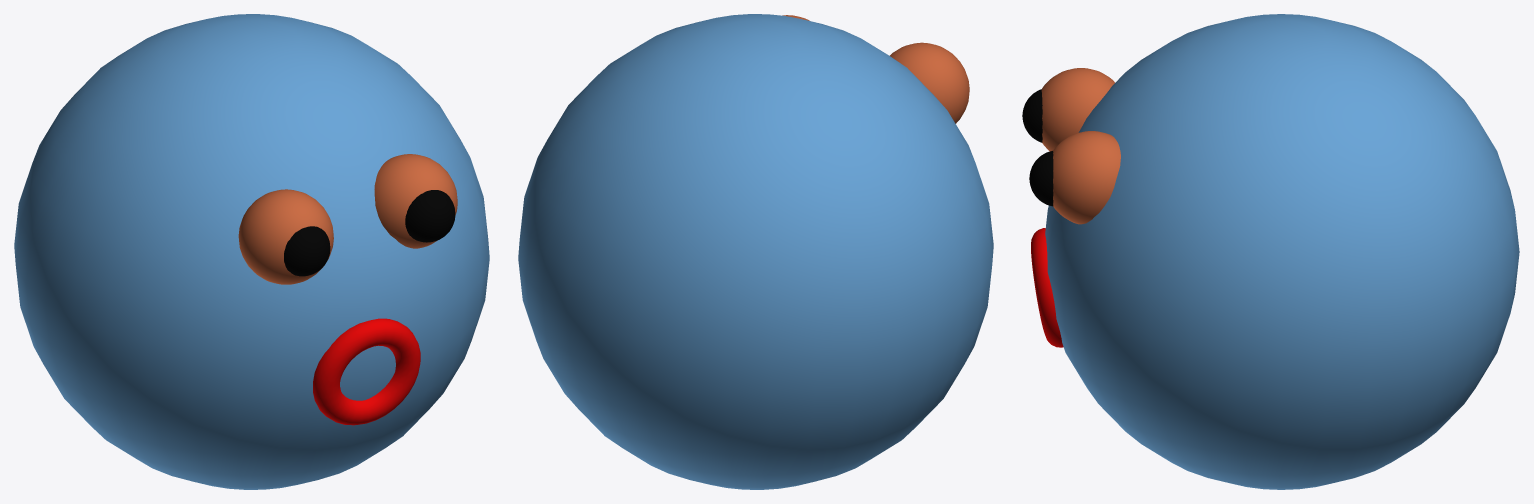
File: amnon.fbx
3 views of the same model, side by side, from view 1: azimuth 30°, elevation 25°; view 2: azimuth 150°, elevation 25°; view 3: azimuth 270°, elevation 25° (orthographic).
Visible parts, largest first — view 1: Sphere, Torus, Sphere_1, Sphere_2, Sphere_5, Sphere_4; view 2: Sphere, Sphere_1; view 3: Sphere, Sphere_2, Sphere_1, Torus, Sphere_5, Sphere_4.
Boxes of the visible parts, <box> form: Sphere: <box>14,14,489,489</box>; Torus: <box>313,318,420,425</box>; Sphere_1: <box>238,189,333,284</box>; Sphere_2: <box>374,154,457,248</box>; Sphere_5: <box>405,190,455,242</box>; Sphere_4: <box>284,226,330,276</box>; Sphere: <box>518,14,993,489</box>; Sphere_1: <box>890,42,969,123</box>; Sphere: <box>1045,14,1519,489</box>; Sphere_2: <box>1053,131,1120,224</box>; Sphere_1: <box>1041,68,1114,151</box>; Torus: <box>1031,228,1063,347</box>; Sphere_5: <box>1029,151,1053,206</box>; Sphere_4: <box>1022,89,1042,142</box>.
Size of the model in its own units: 200 by 200 by 209.
